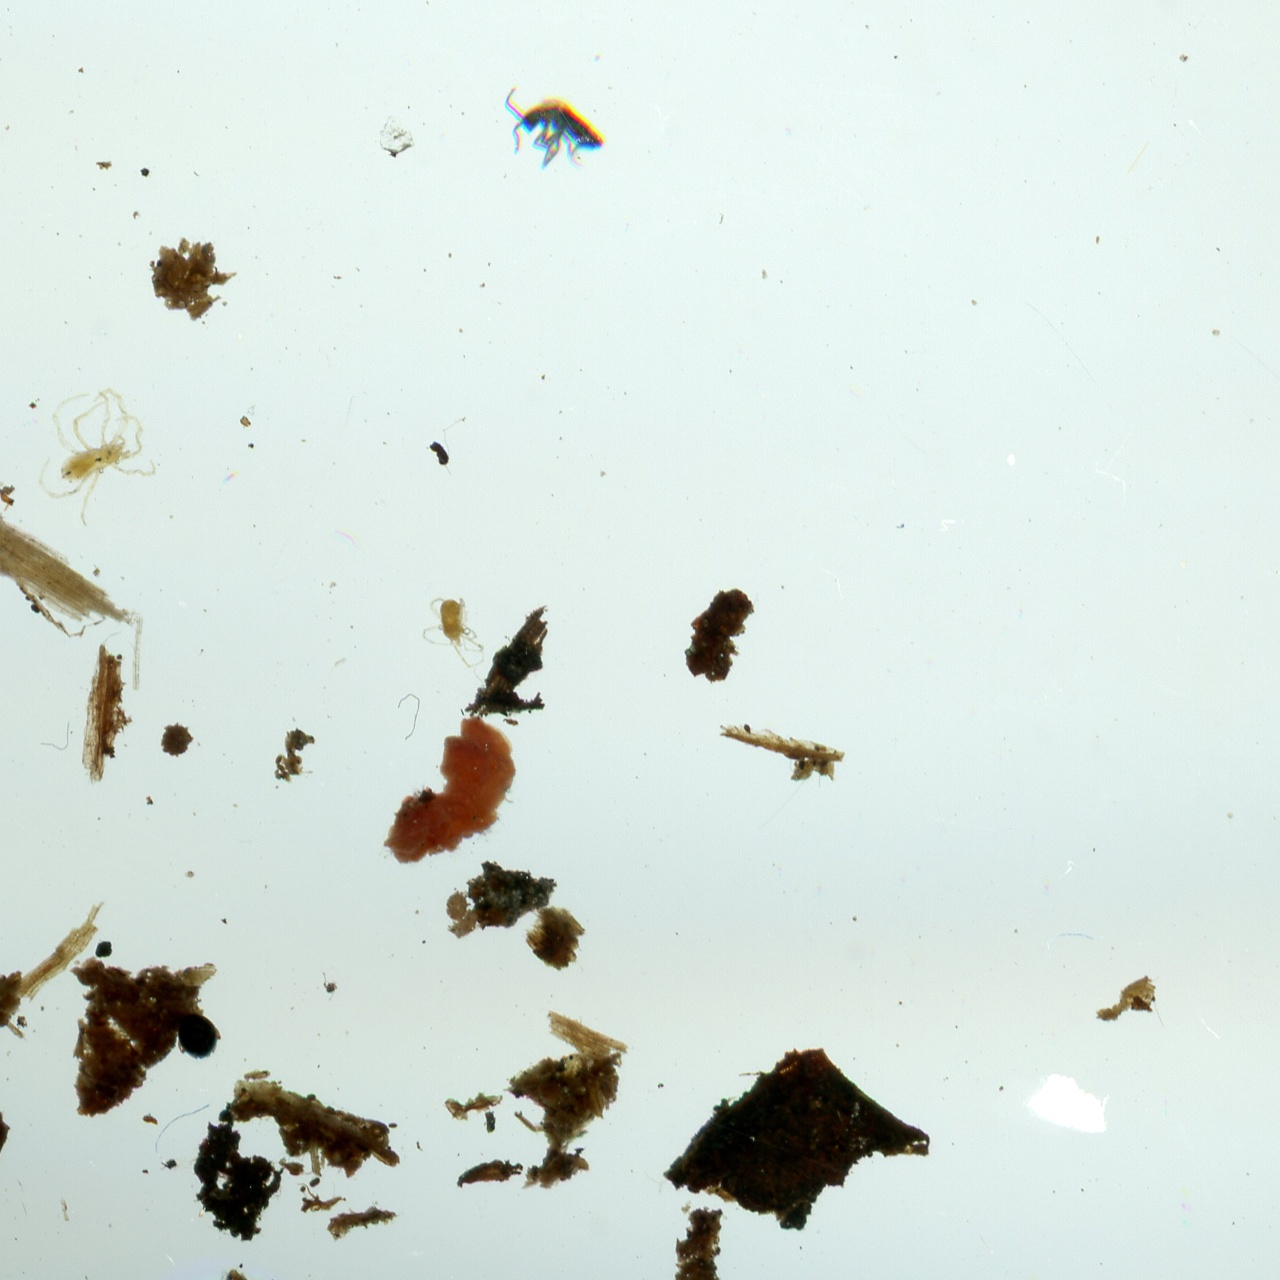arthropod: (6, 368, 179, 543), (503, 82, 608, 172), (410, 585, 497, 685), (161, 999, 232, 1073)
